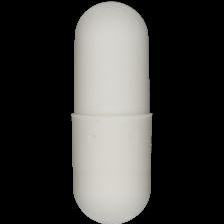49999-621: (0, 0, 224, 224)
